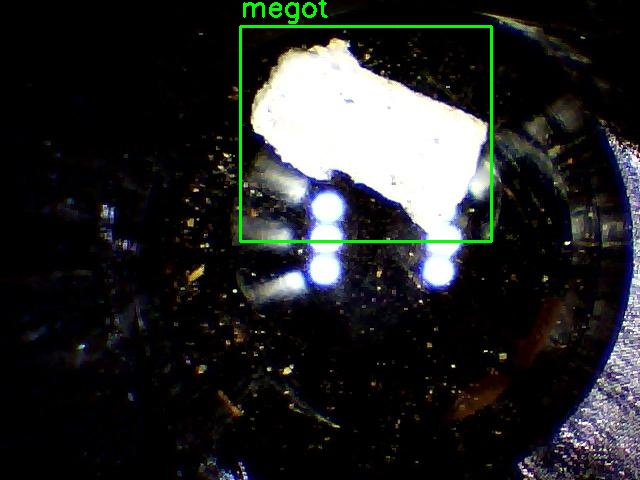megot: (240, 26, 491, 241)
